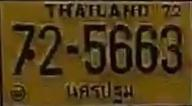2: (38, 24, 62, 74)
3: (160, 24, 182, 73)
5: (83, 24, 105, 74)
6: (109, 24, 131, 73), (135, 24, 157, 73)
7: (11, 23, 34, 74)
NPT: (64, 78, 136, 104)
